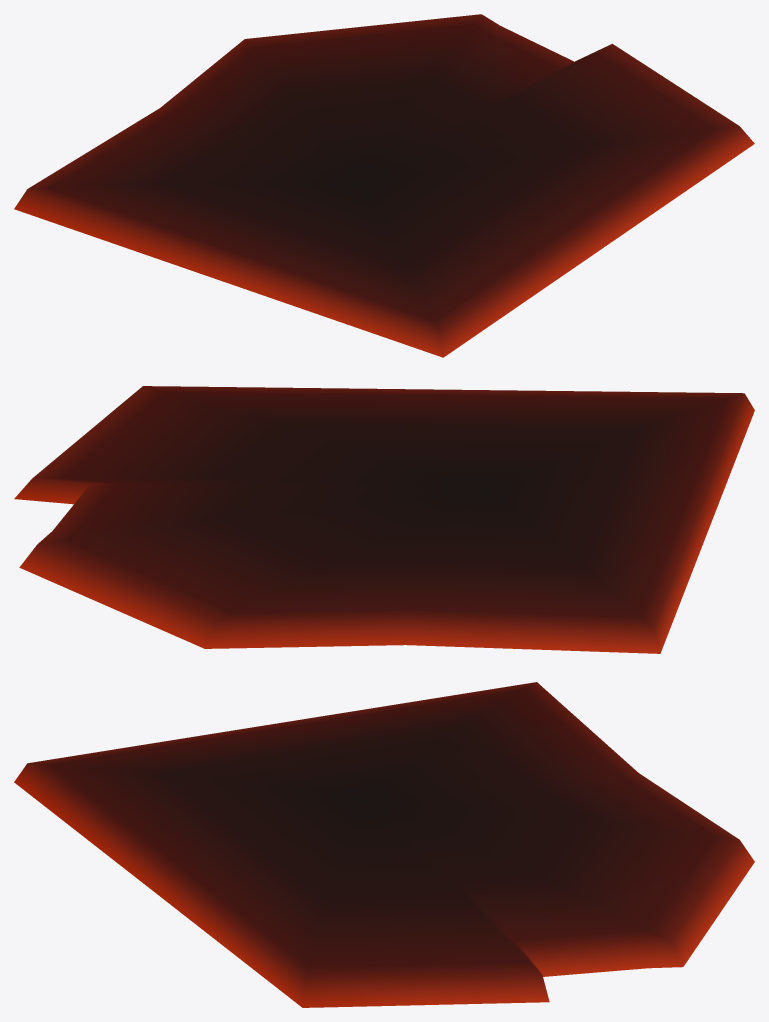
File: raft_0.glb
3 renders of one model, top to bottom at view 1: azimuth 30°, elevation 25°; view 2: azimuth 150°, elevation 25°; view 3: azimuth 270°, elevation 25°, orthographic. The views are drawn at different scales.
Visible parts, largest first — view 1: raft; view 2: raft; view 3: raft.
Boxes of the visible parts, left/top/right/bottom form: raft: left=14, top=14, right=754, bottom=357; raft: left=14, top=386, right=754, bottom=653; raft: left=14, top=682, right=754, bottom=1007.
Bounding box in the file's own units: 1.45 × 0.06 × 1.46.
